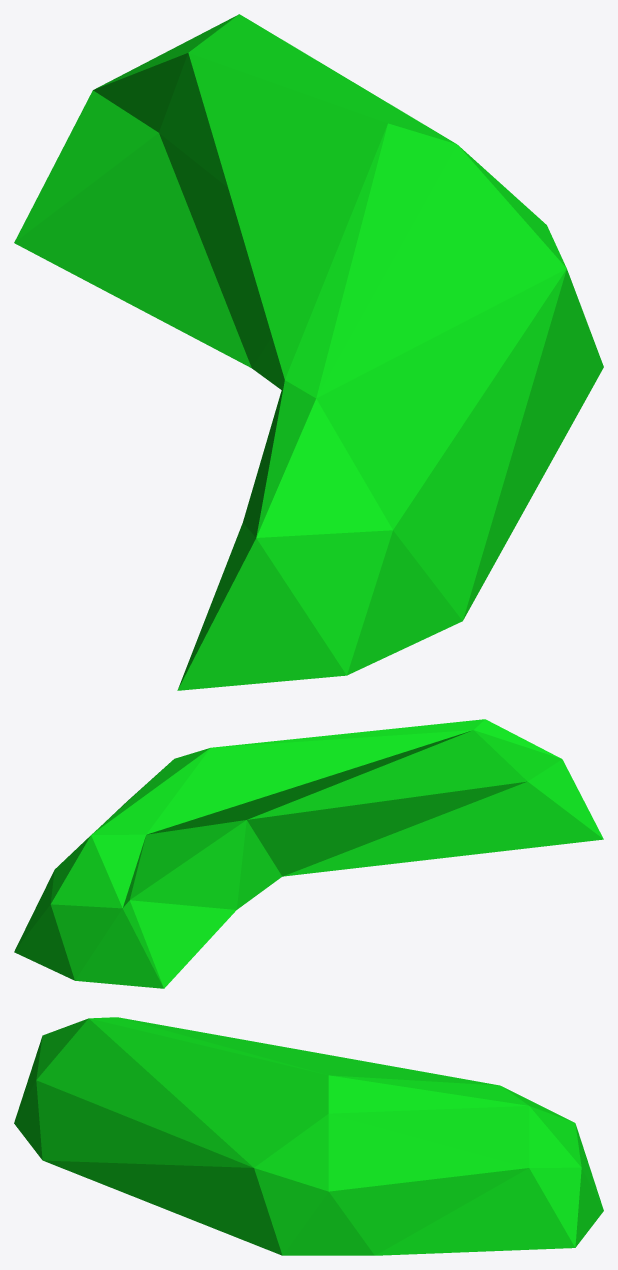
The model's file is hold3.fbx.
The picture shows the model from 3 angles, top to bottom: view 1: azimuth 30°, elevation 25°; view 2: azimuth 150°, elevation 25°; view 3: azimuth 270°, elevation 25°; orthographic projection. The views are drawn at different scales.
Parts seen in each view (by area): view 1: Icosphere; view 2: Icosphere; view 3: Icosphere.
Part boxes in pixels (x1,y1,x2,y2): Icosphere: [14, 14, 603, 690]; Icosphere: [14, 719, 603, 988]; Icosphere: [14, 1017, 603, 1255].
Size of the model in its own units: 268 by 100 by 395.
